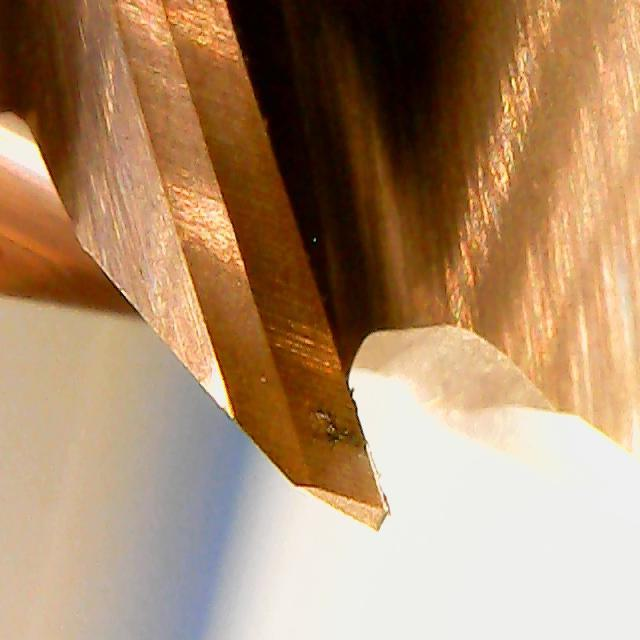Tool-wear-class-1: (211, 270, 413, 540)
